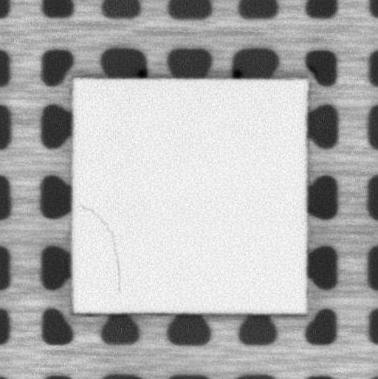DIE_CRACK: (81, 205, 124, 295)
